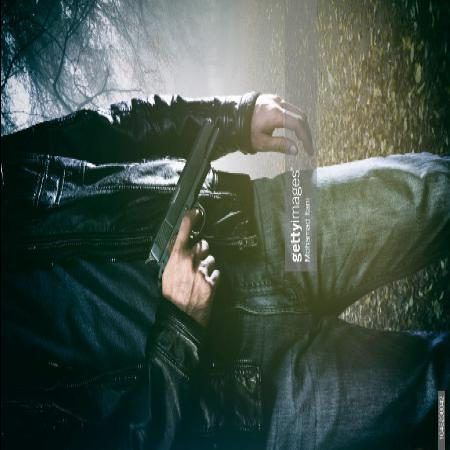Pistol: (139, 116, 228, 278)
